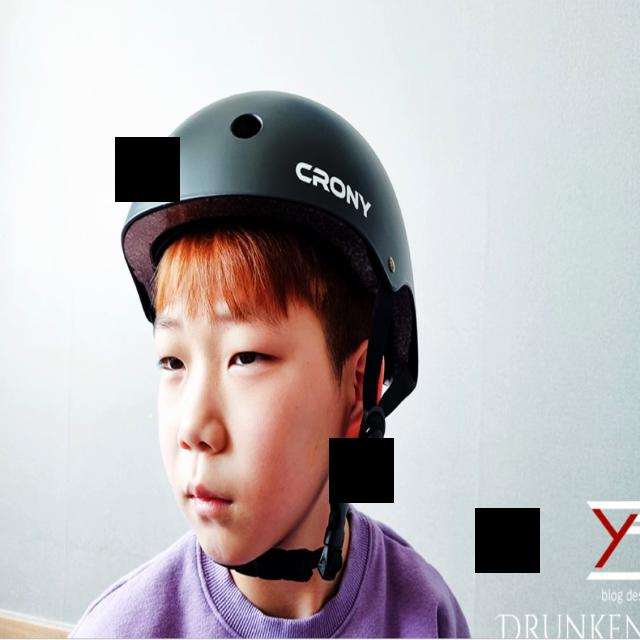Helmet: (122, 87, 420, 568)
